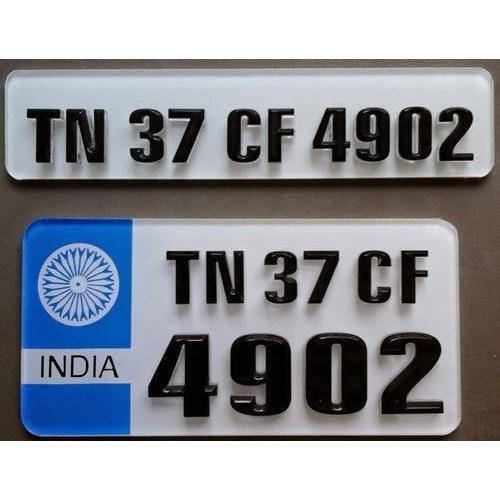number_plate: (20, 215, 459, 436), (5, 67, 495, 181)
